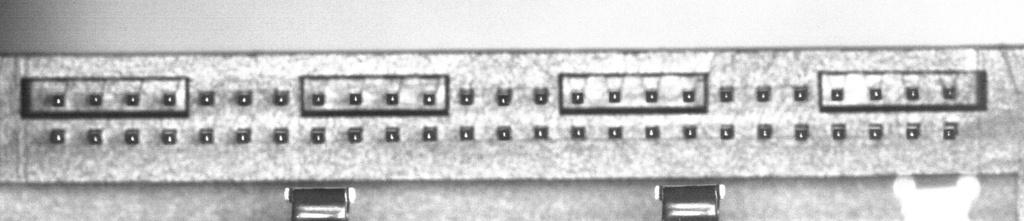pin_ok: (496, 86, 513, 105), (942, 122, 959, 140), (533, 86, 550, 104), (273, 88, 290, 105), (458, 87, 474, 105), (831, 123, 847, 140), (719, 85, 735, 102), (49, 128, 66, 144), (198, 90, 215, 106), (868, 124, 884, 140), (757, 124, 773, 140), (87, 128, 103, 144), (124, 128, 140, 144), (794, 124, 809, 141), (906, 123, 921, 140), (793, 85, 808, 101), (161, 129, 177, 144), (310, 127, 325, 143), (272, 128, 288, 143), (198, 128, 214, 143), (347, 127, 363, 142), (235, 128, 251, 143), (941, 84, 957, 99), (422, 126, 438, 141), (236, 90, 252, 105), (532, 125, 549, 139), (756, 86, 771, 101), (720, 124, 735, 139), (162, 91, 177, 106), (681, 88, 696, 103), (385, 126, 400, 141), (496, 126, 512, 140), (570, 125, 586, 139), (905, 86, 920, 100), (125, 92, 140, 106), (459, 126, 474, 140), (385, 91, 400, 105), (644, 125, 659, 139), (607, 126, 623, 139), (830, 87, 844, 101), (869, 87, 883, 101), (570, 90, 584, 104), (311, 92, 325, 106), (348, 91, 362, 105), (88, 92, 102, 106), (683, 125, 697, 139), (644, 89, 658, 102), (607, 89, 621, 102), (423, 92, 436, 105), (52, 94, 65, 107)
